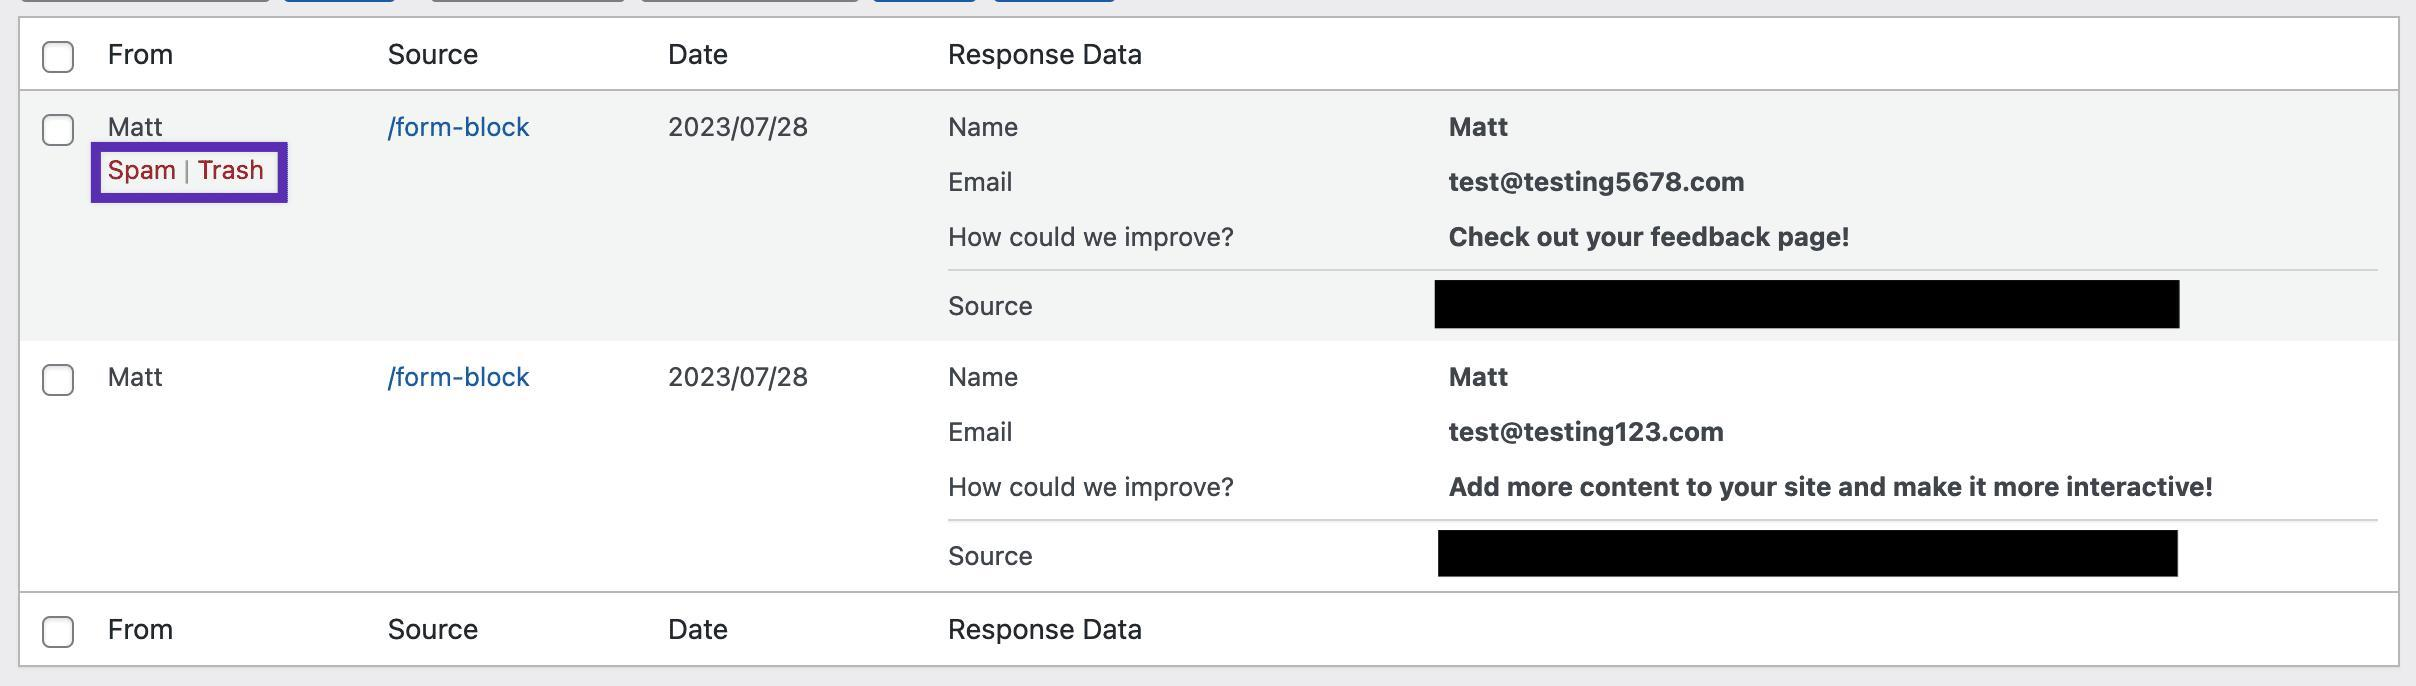checkbox: (42, 39, 75, 76), (40, 114, 75, 148), (43, 364, 75, 399), (45, 615, 75, 649)
table: (25, 17, 2398, 664)
